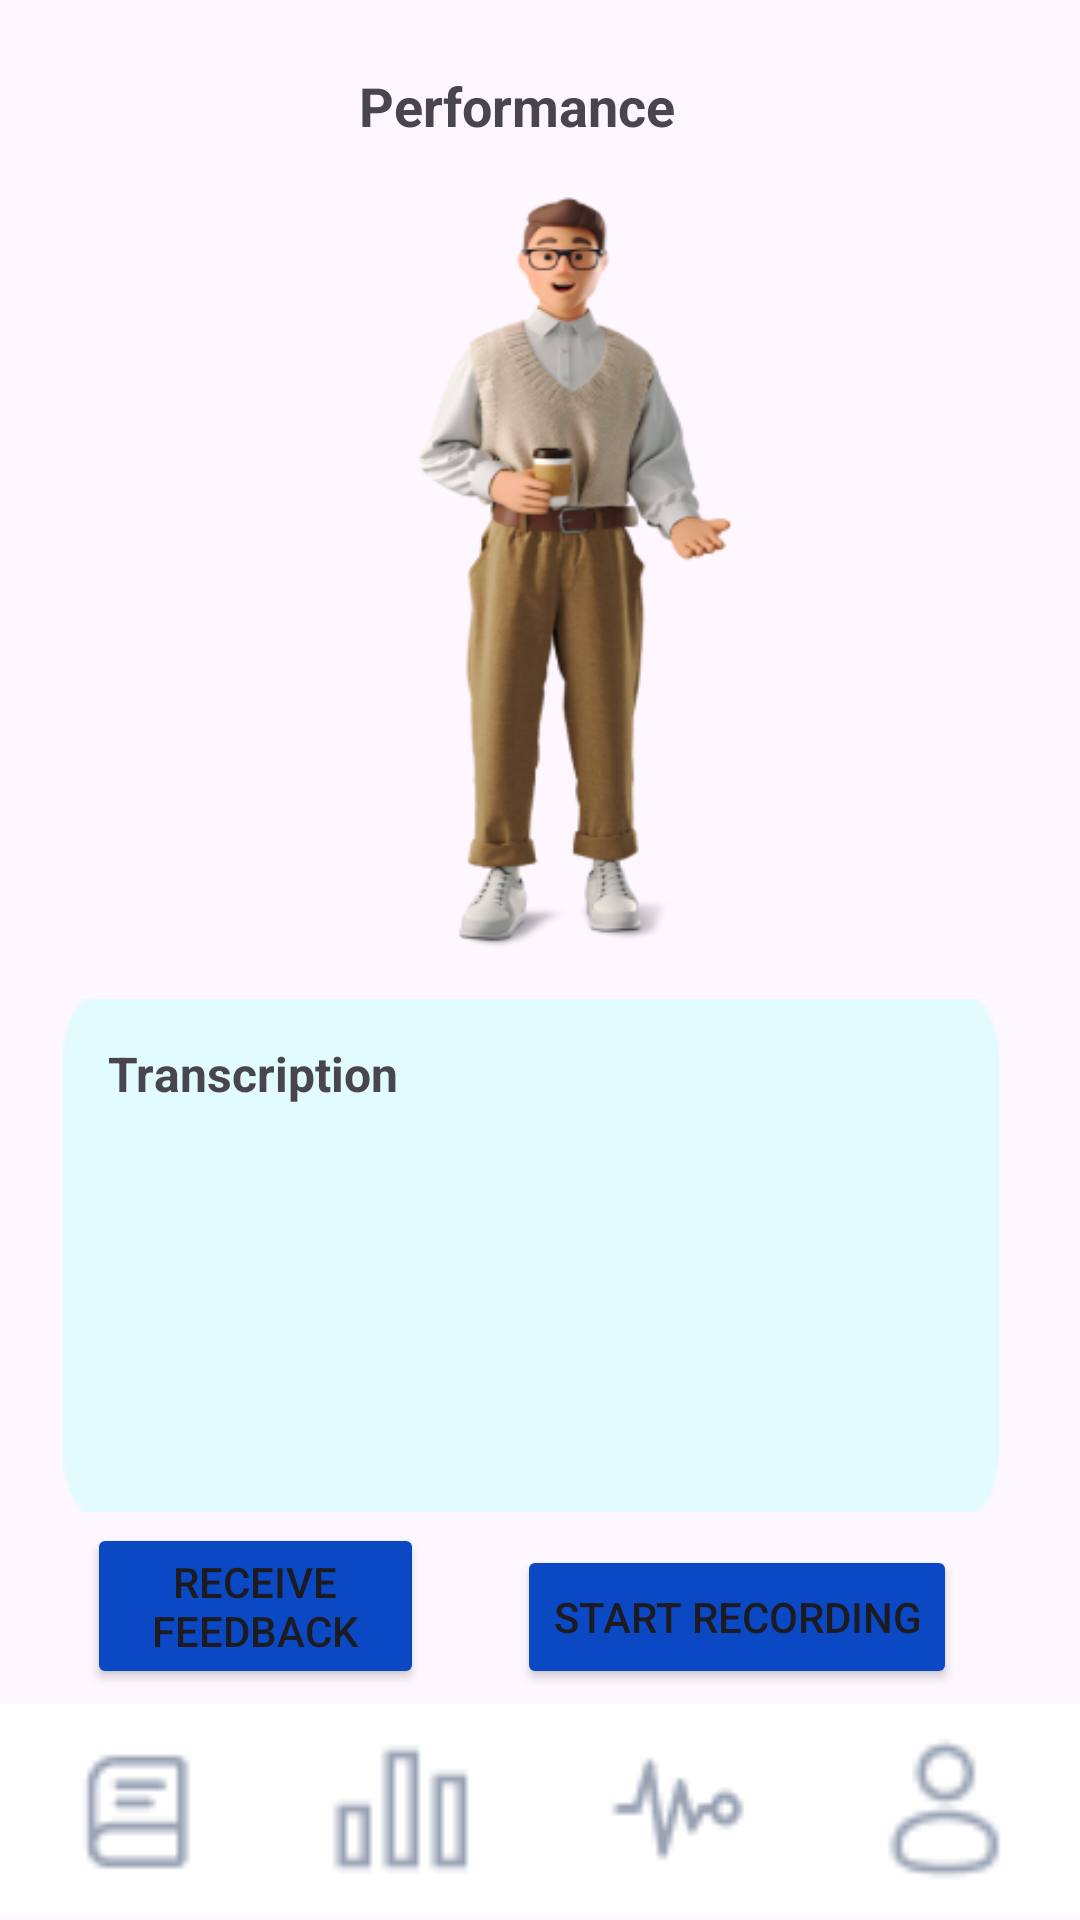

Point at icon controls on the screen. Image size 1080x1920, points as (x,y).
book: (137,1812)
chart: (401,1809)
profile: (945,1809)
